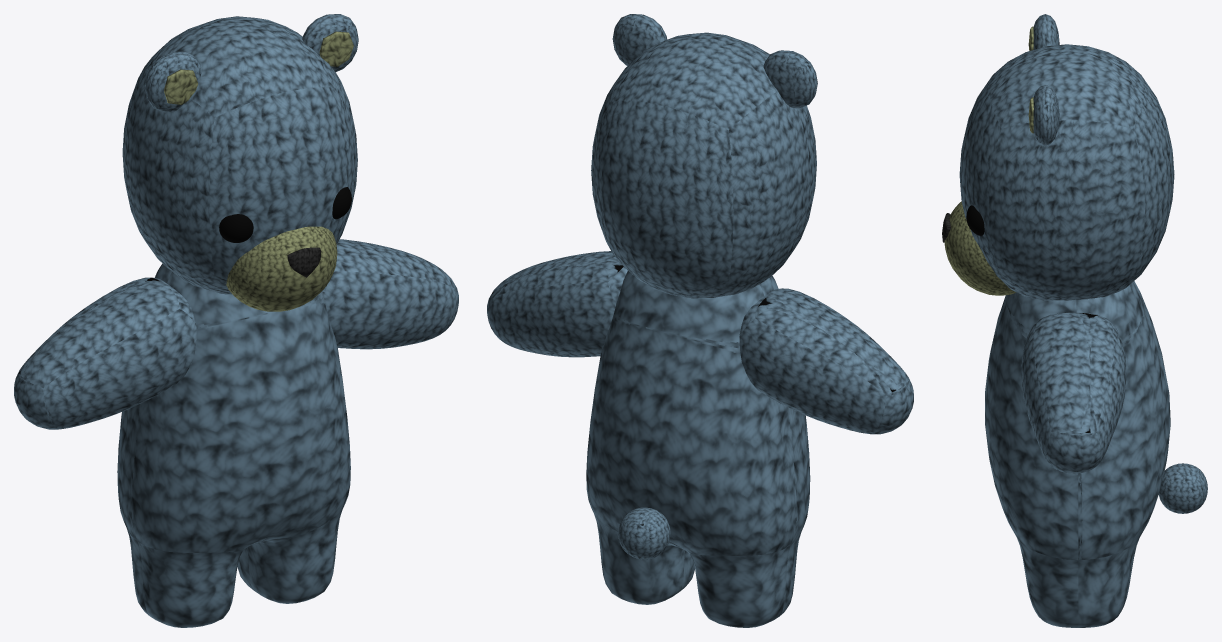
File: OSITOAzul.glb
The picture shows the model from 3 angles, left to right: view 1: azimuth 30°, elevation 25°; view 2: azimuth 150°, elevation 25°; view 3: azimuth 270°, elevation 25°; orthographic projection. The views are drawn at different scales.
Visible parts, largest first — view 1: body, head, arms, snoot, ears, in ears, eyes, nose; view 2: body, head, arms, ears, tail; view 3: head, body, arms, snoot, ears, tail, eyes.
Boxes of the visible parts, x1,y1,x2,y2 form: body: (117,263,350,627); head: (122,16,357,294); arms: (14,239,458,429); snoot: (226,226,337,311); ears: (145,14,358,112); in ears: (164,31,353,104); eyes: (219,187,351,242); nose: (287,247,321,277); body: (586,271,810,627); head: (591,32,816,298); arms: (487,251,913,434); ears: (612,14,817,108); tail: (618,507,670,559); head: (959,44,1174,300); body: (985,281,1170,627); arms: (1021,312,1126,473); snoot: (944,201,1015,295); ears: (1033,14,1059,145); tail: (1158,463,1207,513); eyes: (966,205,984,235).
Size of the model in its own units: 1.37 by 1.75 by 0.7789.
7 materials, 6 textured.
